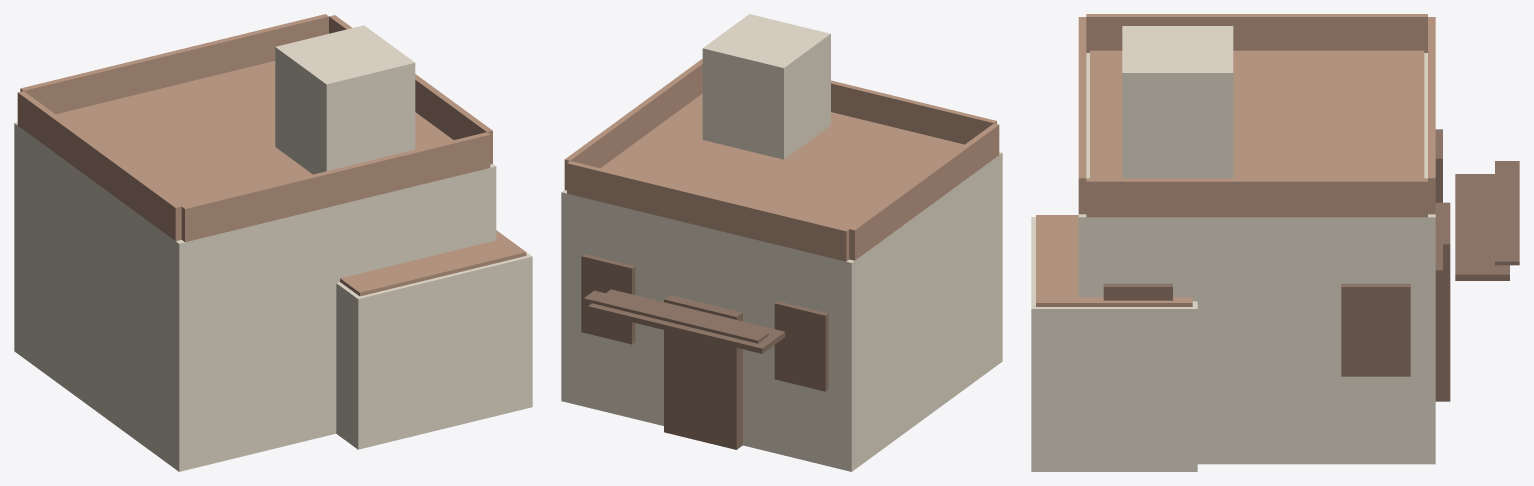
The model's file is persian-house-no-dome.glb.
3 views of the same model, side by side, from view 1: azimuth 30°, elevation 25°; view 2: azimuth 150°, elevation 25°; view 3: azimuth 270°, elevation 25° (orthographic). The views are drawn at different scales.
Visible parts, largest first — view 1: Persian_House_NoDome; view 2: Persian_House_NoDome; view 3: Persian_House_NoDome.
Boxes of the visible parts, bbox=[...] form: Persian_House_NoDome: bbox=[14, 14, 532, 471]; Persian_House_NoDome: bbox=[561, 14, 1002, 471]; Persian_House_NoDome: bbox=[1031, 14, 1519, 471].
Bounding box in the file's own units: 8.36 × 8 × 9.86.
